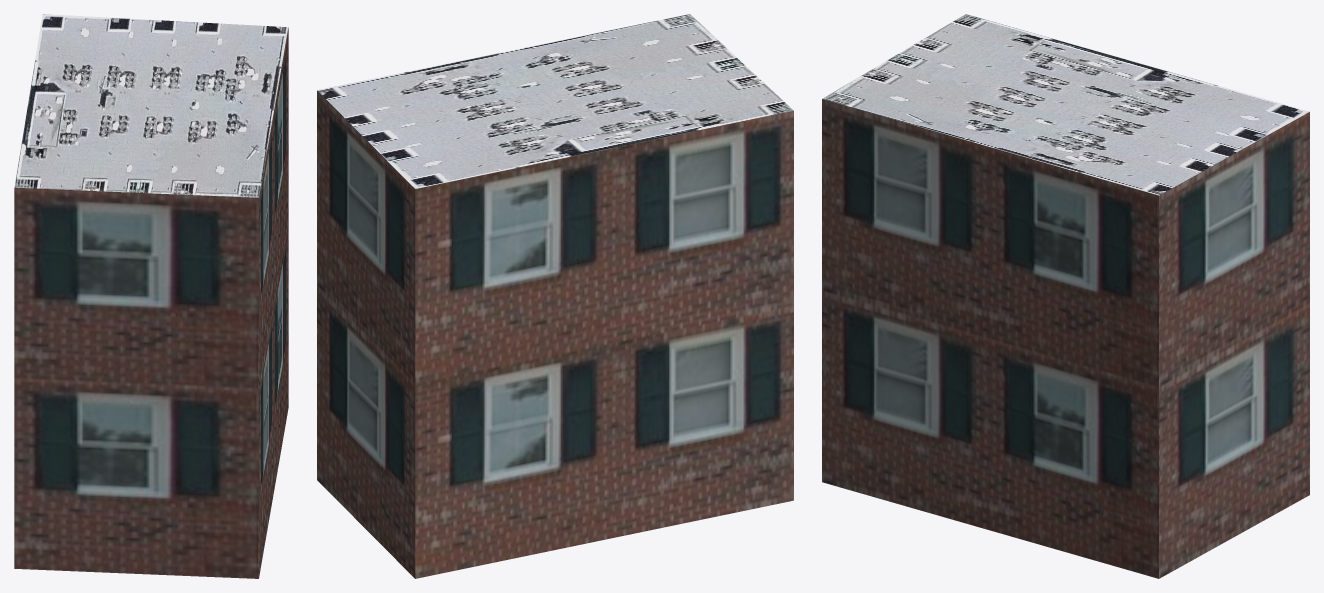
File: ResTex__2270.fbx
The picture shows the model from 3 angles, left to right: view 1: azimuth 30°, elevation 25°; view 2: azimuth 150°, elevation 25°; view 3: azimuth 270°, elevation 25°; orthographic projection. The views are drawn at different scales.
Parts seen in each view (by area): view 1: CityEngineMaterial_14_m, CityEngineMaterial_m; view 2: CityEngineMaterial_14_m, CityEngineMaterial_m; view 3: CityEngineMaterial_14_m, CityEngineMaterial_m.
Boxes of the visible parts, box(x1,y1,x2,y2) form: CityEngineMaterial_14_m: box(14, 27, 288, 578); CityEngineMaterial_m: box(14, 14, 288, 197); CityEngineMaterial_14_m: box(317, 90, 793, 578); CityEngineMaterial_m: box(317, 14, 793, 188); CityEngineMaterial_14_m: box(822, 99, 1309, 578); CityEngineMaterial_m: box(822, 14, 1309, 195).
Bounding box in the file's own units: 6.1 × 6 × 6.92.
Materials: 2 (2 with a texture image).
